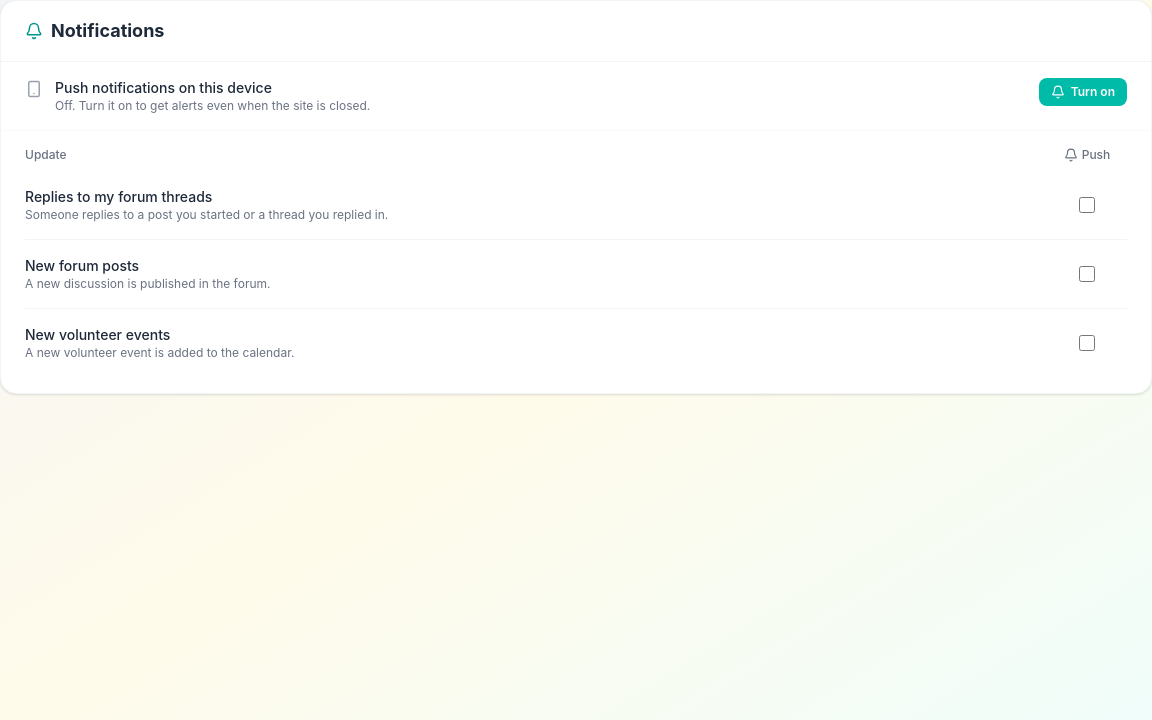
Scenario: NotificationSettings › rolls back and explains when saving fails
This screenshot has width=1152, height=720.
Step 1. Click the checkbox named "Push: New volunteer events" → click(1087, 343), box [1079,335,1095,351]
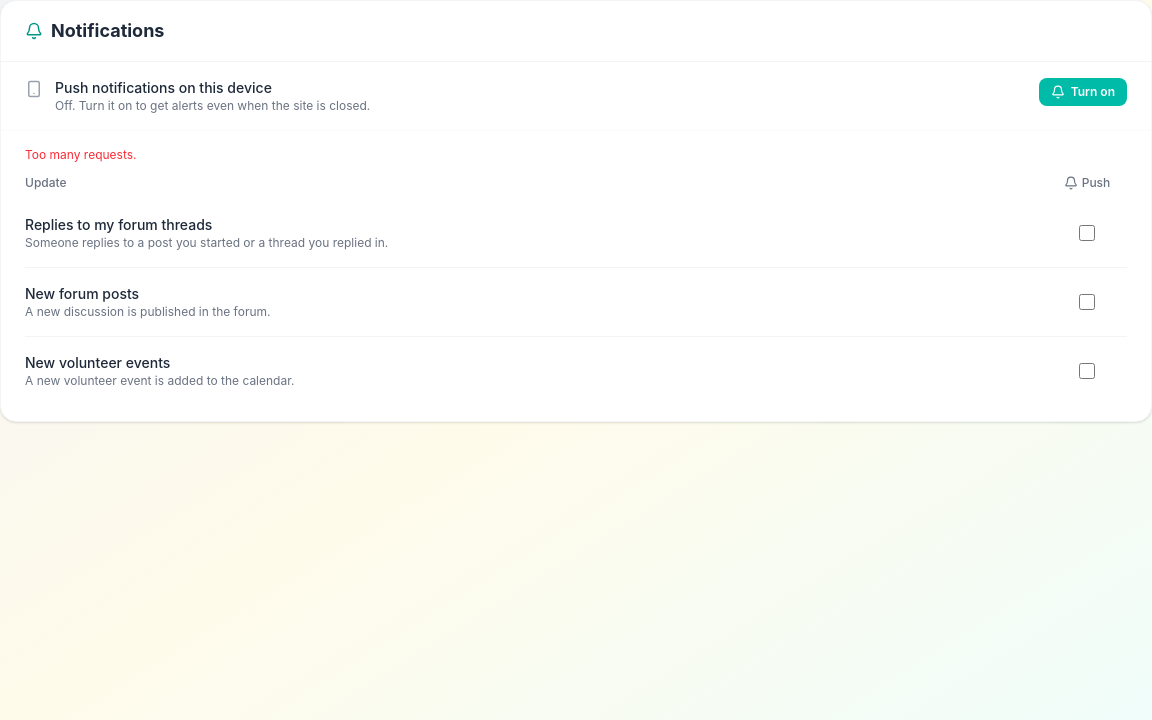
Expected: the checkbox named "Push: New volunteer events" is not checked, [1079,363,1095,379]
Expected: the message reads "Too many requests.", [25,147,136,162]
